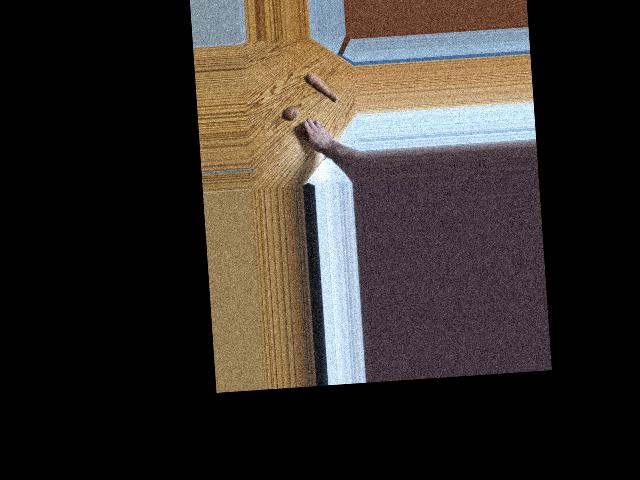onion: (298, 123, 312, 138)
